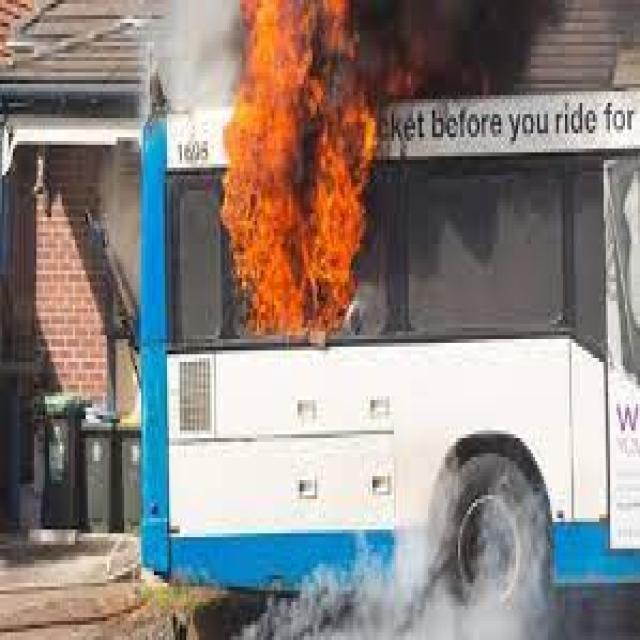Fire: (220, 0, 380, 338)
Smoke: (242, 425, 550, 640), (182, 4, 568, 150)
